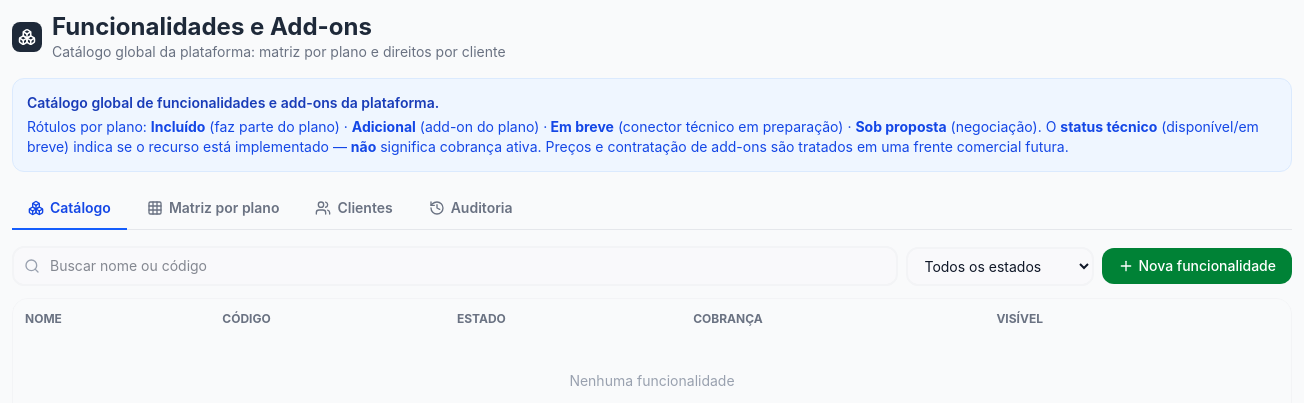
Test: PainelFuncionalidades — busca de clientes › termo curto (<2) não busca; ≥2 busca (debounce) e lista resultados
Click the button "Clientes".
click(354, 209)  # box x1=299 y1=188 x2=409 y2=230
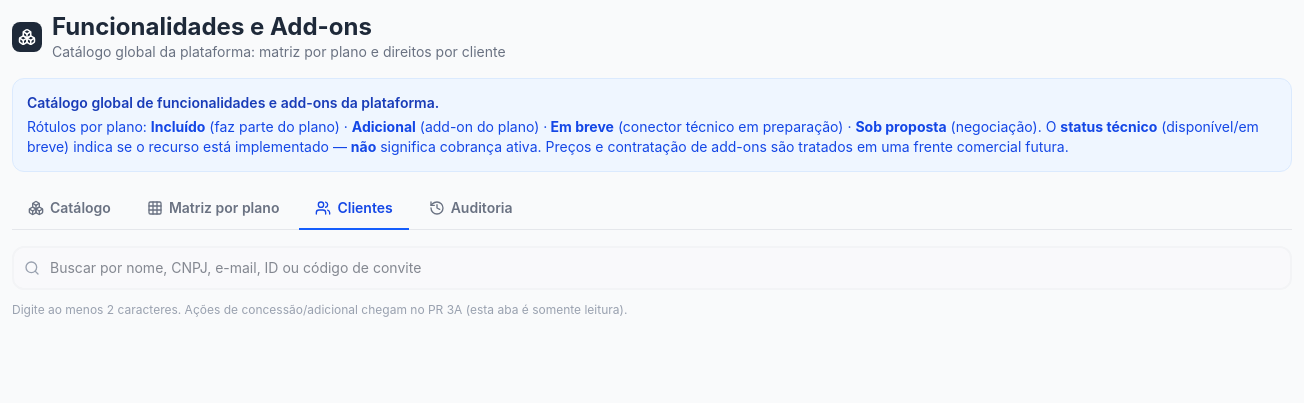
Type "a" into the field named "buscar cliente".
click(652, 268); type("a")  # box x1=12 y1=246 x2=1292 y2=290
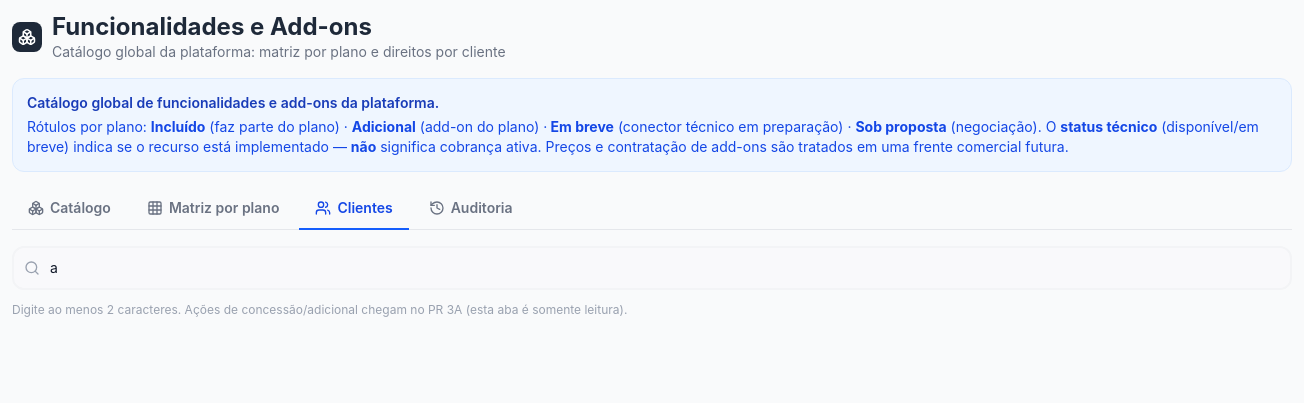
Replace the text in the field named "buscar cliente" with "alfa" at (652, 268), box x1=12 y1=246 x2=1292 y2=290
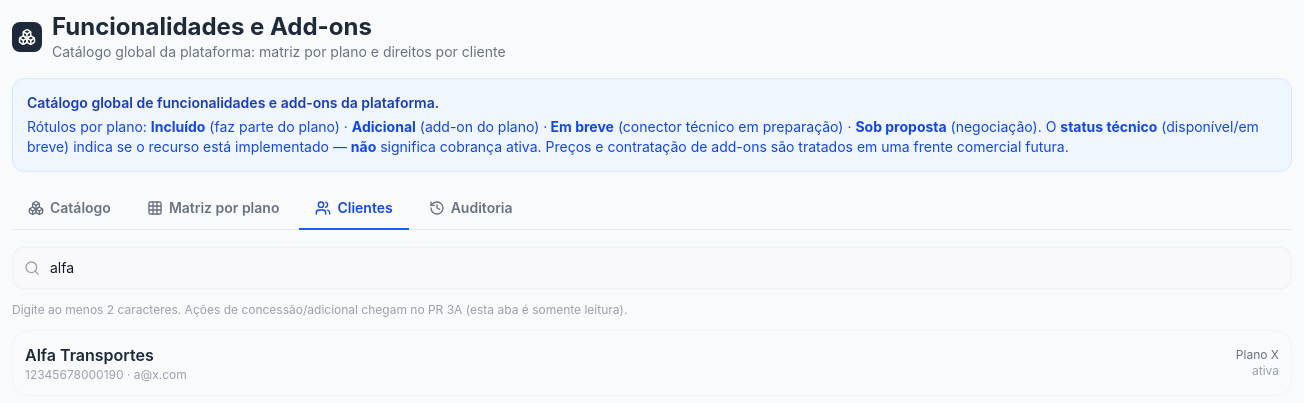
Result: the text "Alfa Transportes" is shown at x1=25 y1=345 x2=154 y2=365
